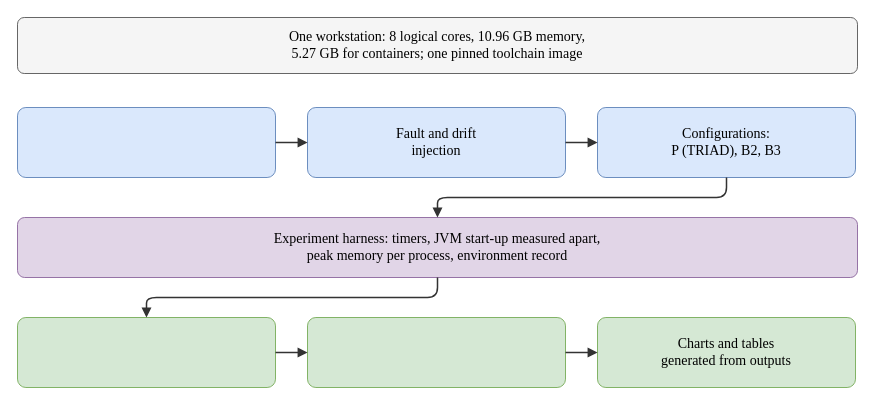
Image size: 875x405. Some labels were removed from this diagram. Each missing label, with the centre of its shape:
EXP-1 to EXP-10 and policy noise floors: the point at 146,352
Seeded synthetic generator: the point at 146,142
Stored outputs: result.json per run: the point at 436,352
